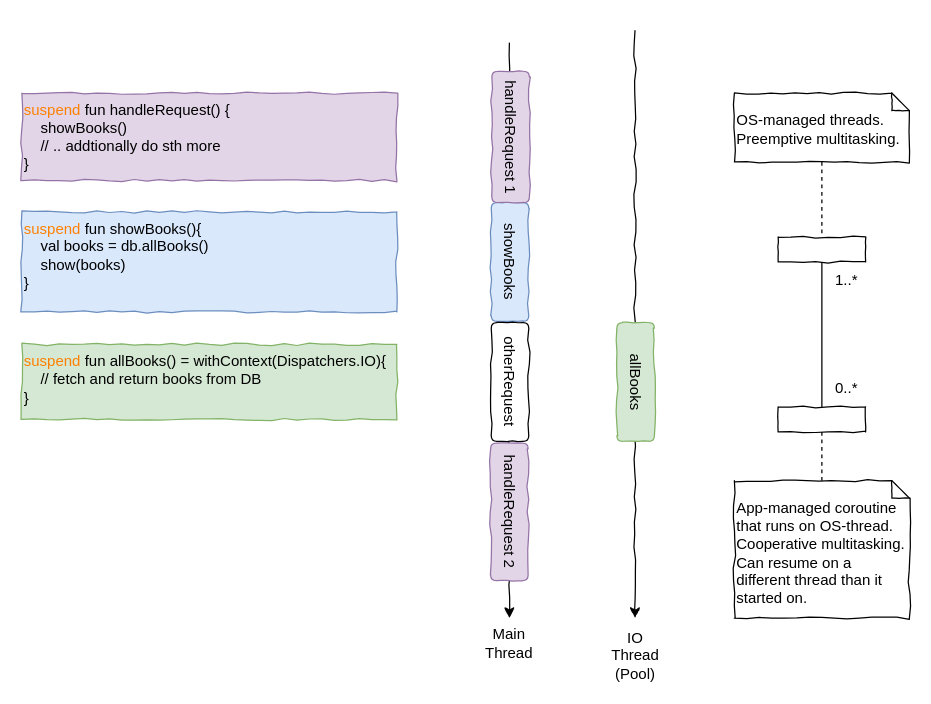
This 931x704 diagram has some shape labels left out. The box of each missing label's shape, as (x1, y1, x2, y2) in pixels:
Coroutine: (777, 406, 866, 432)
Thread: (777, 236, 866, 262)
